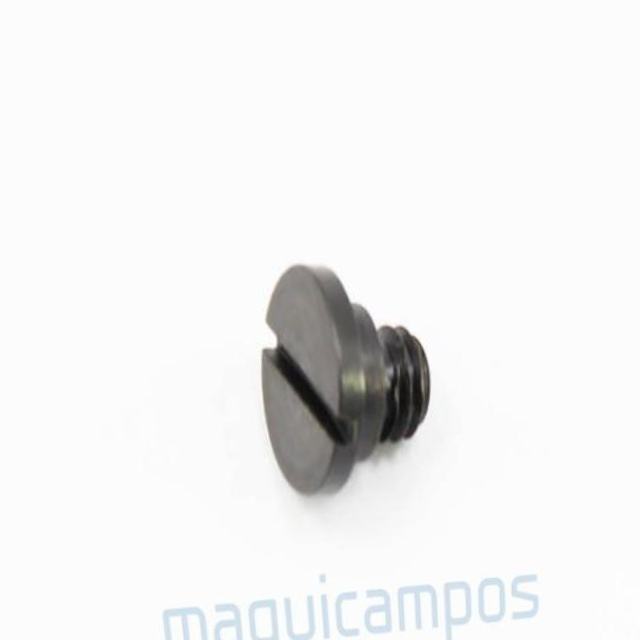duz: (250, 257, 373, 505)
